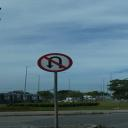NoVirarU: (35, 52, 75, 72)
